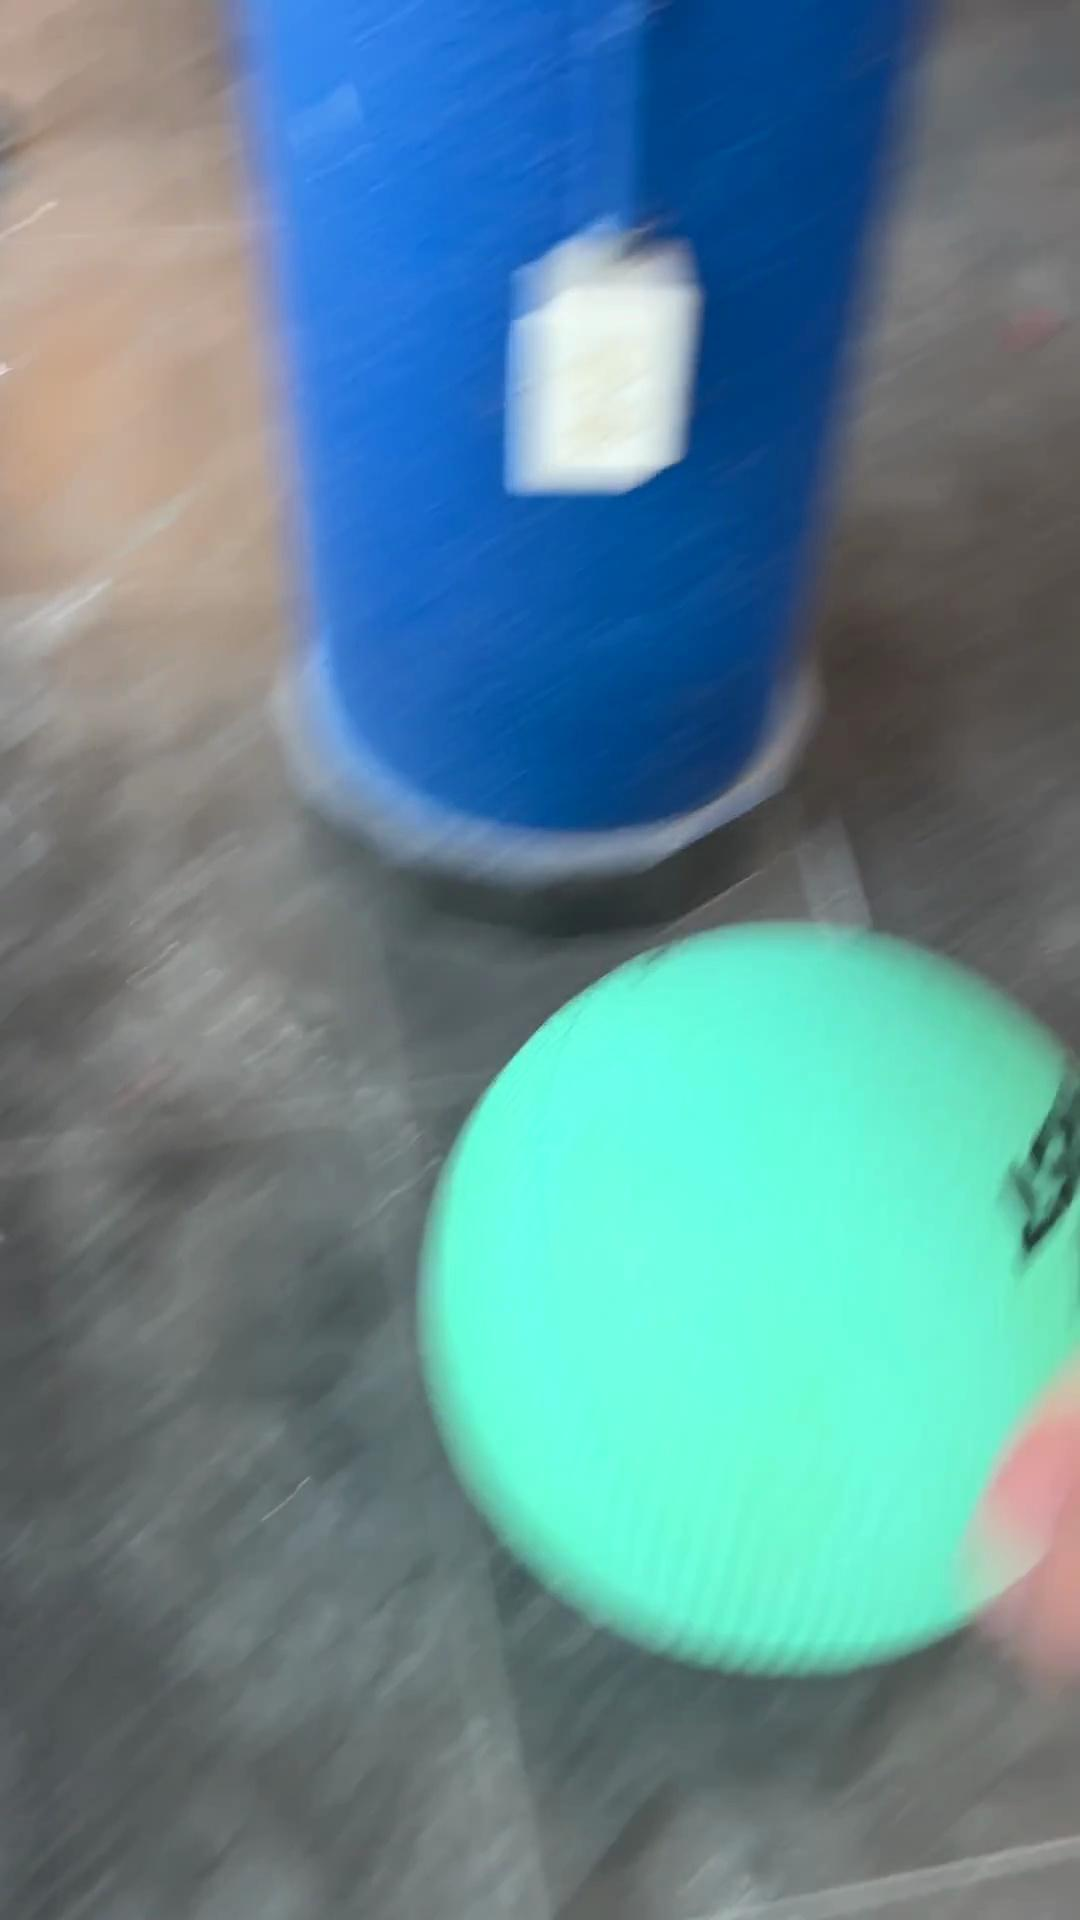ALGAE: (413, 916, 1077, 1681)
